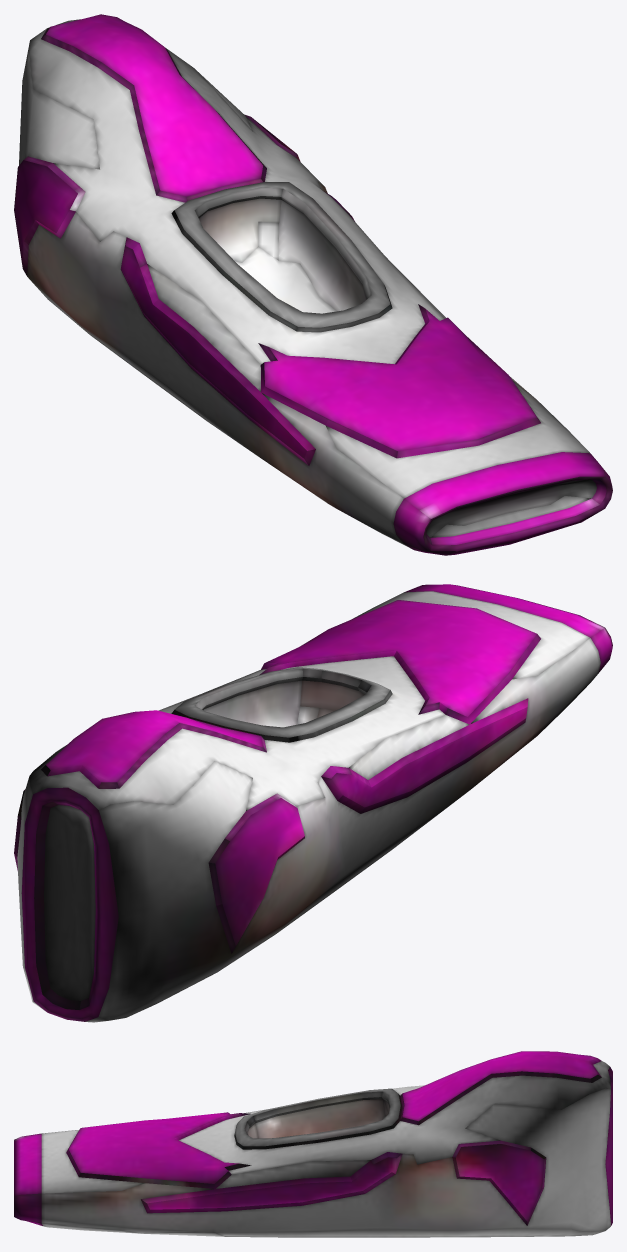
Rendered from body.obj.
3 views of the same model, one above another, from view 1: azimuth 30°, elevation 25°; view 2: azimuth 150°, elevation 25°; view 3: azimuth 270°, elevation 25° (orthographic). The views are drawn at different scales.
Parts seen in each view (by area): view 1: Object011; view 2: Object011; view 3: Object011.
Boxes of the visible parts, left/top/right/bottom form: Object011: left=14, top=14, right=612, bottom=555; Object011: left=14, top=584, right=612, bottom=1022; Object011: left=14, top=1051, right=612, bottom=1237.
Bounding box in the file's own units: 12.37 × 12.22 × 39.1.
Materials: 1 (1 with a texture image).
